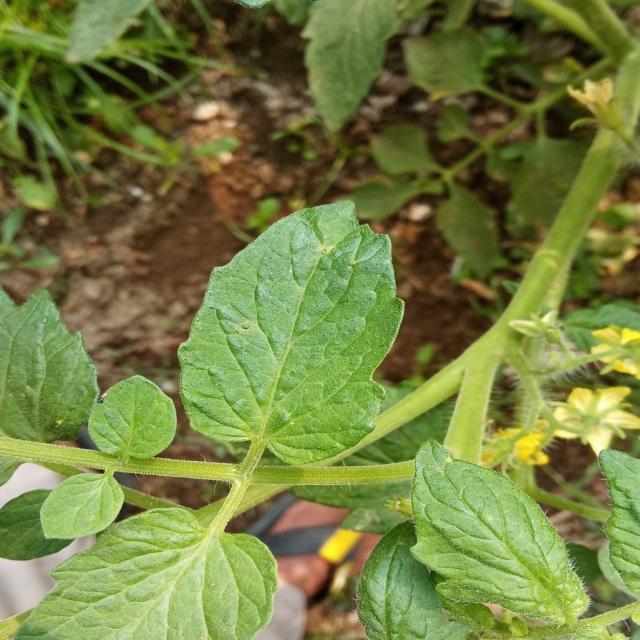Healthy: (156, 167, 438, 485), (364, 411, 605, 640), (16, 508, 277, 640), (0, 287, 99, 442), (75, 364, 191, 479), (39, 472, 124, 538)
